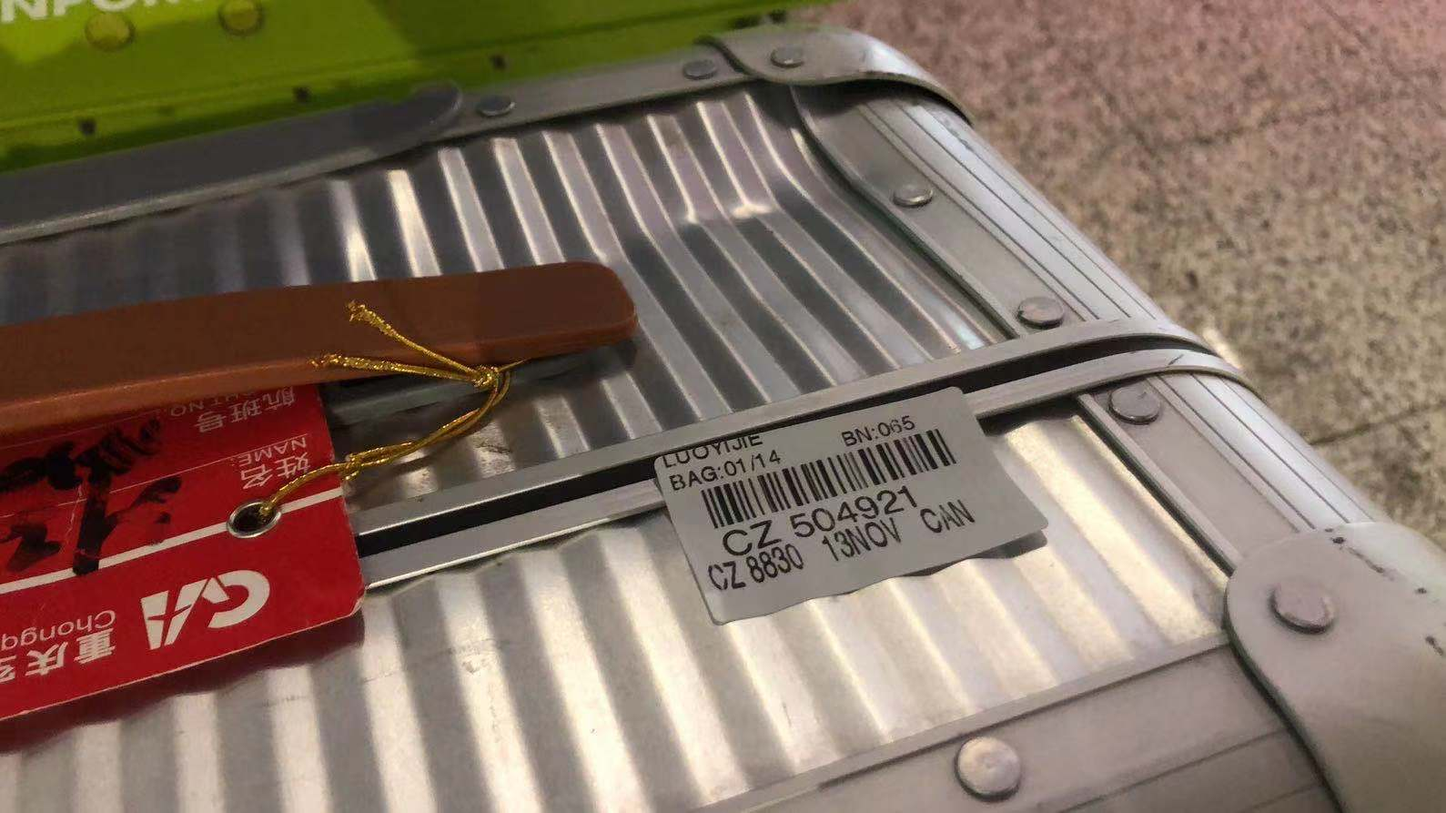rupture: (609, 113, 875, 260)
